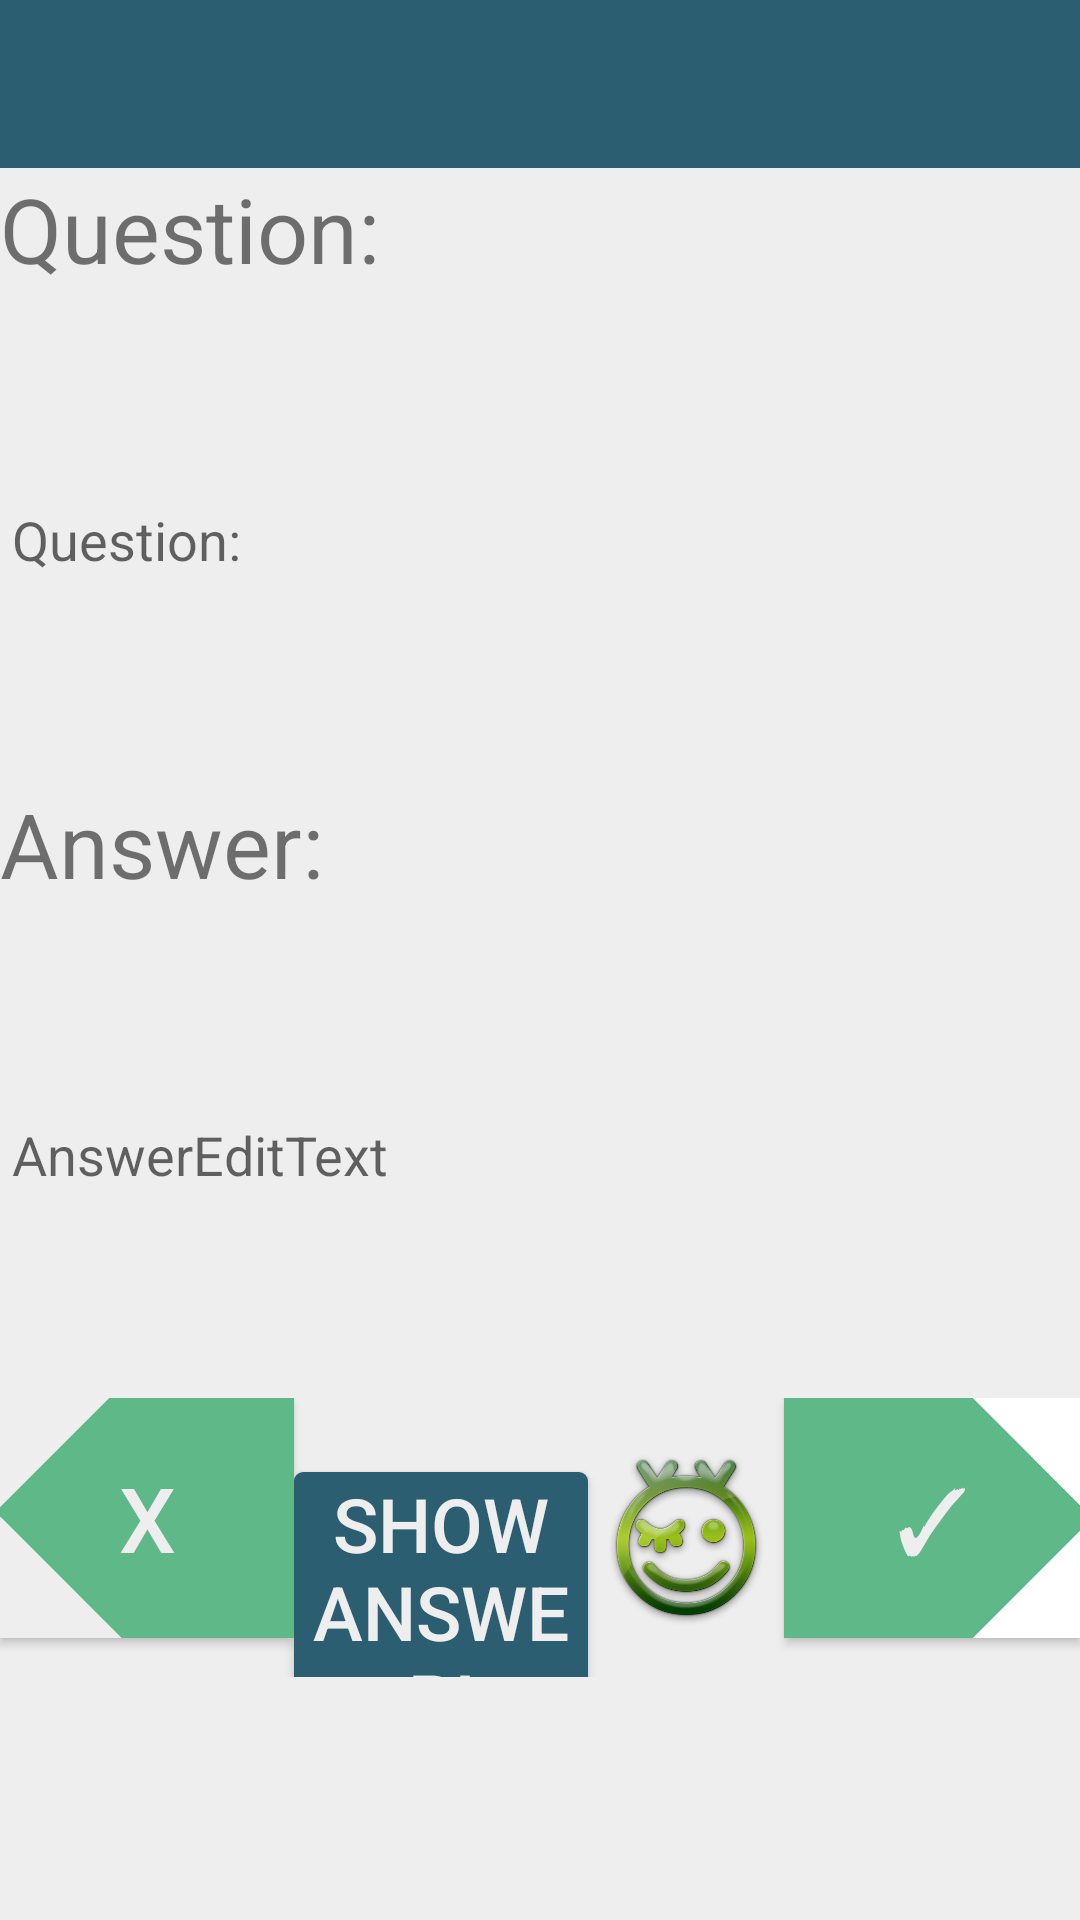

Named icons in this screenshot (1080 x 1920) and their bounding boxes, (x1, y1, x2, y2):
smiley: (614, 1459, 759, 1620)
